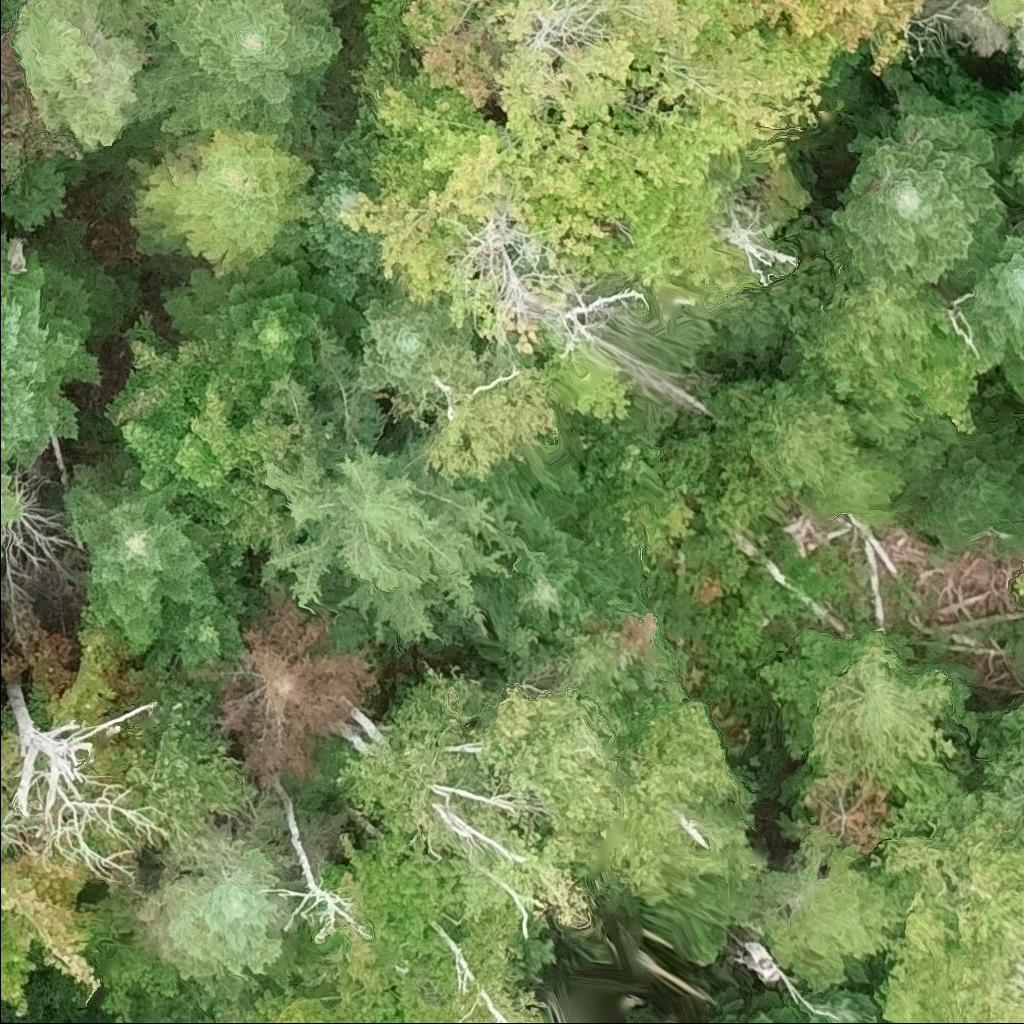crown: (340, 45, 788, 329), (254, 323, 553, 649), (362, 0, 839, 155), (336, 660, 627, 867), (103, 311, 304, 578), (822, 86, 1012, 287), (183, 595, 379, 784), (869, 792, 1023, 1023), (610, 680, 763, 904), (6, 683, 172, 883), (126, 0, 349, 144), (63, 456, 226, 653), (125, 123, 319, 277), (0, 233, 127, 468), (160, 255, 362, 402), (150, 820, 288, 1005), (807, 633, 965, 775), (787, 270, 949, 402), (0, 841, 117, 1018), (422, 343, 560, 487), (295, 114, 387, 300), (479, 525, 629, 636), (0, 14, 81, 207), (732, 371, 860, 493), (904, 422, 1023, 550), (348, 277, 471, 399), (753, 0, 930, 78), (951, 215, 1023, 400), (145, 573, 270, 669), (979, 696, 1023, 816), (704, 983, 808, 1023), (179, 986, 290, 1023), (798, 983, 879, 1023), (0, 444, 26, 564), (0, 724, 24, 809), (0, 801, 11, 828), (1013, 568, 1023, 595)
